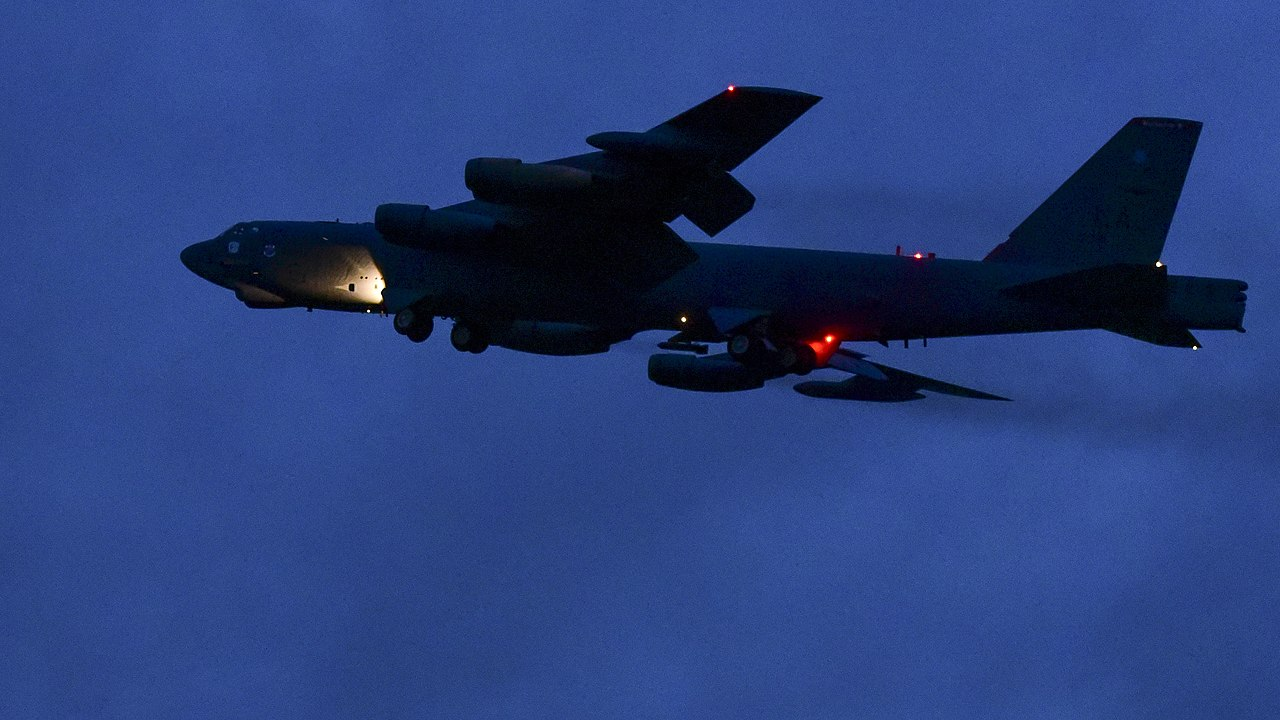B52: (178, 86, 1248, 403)
